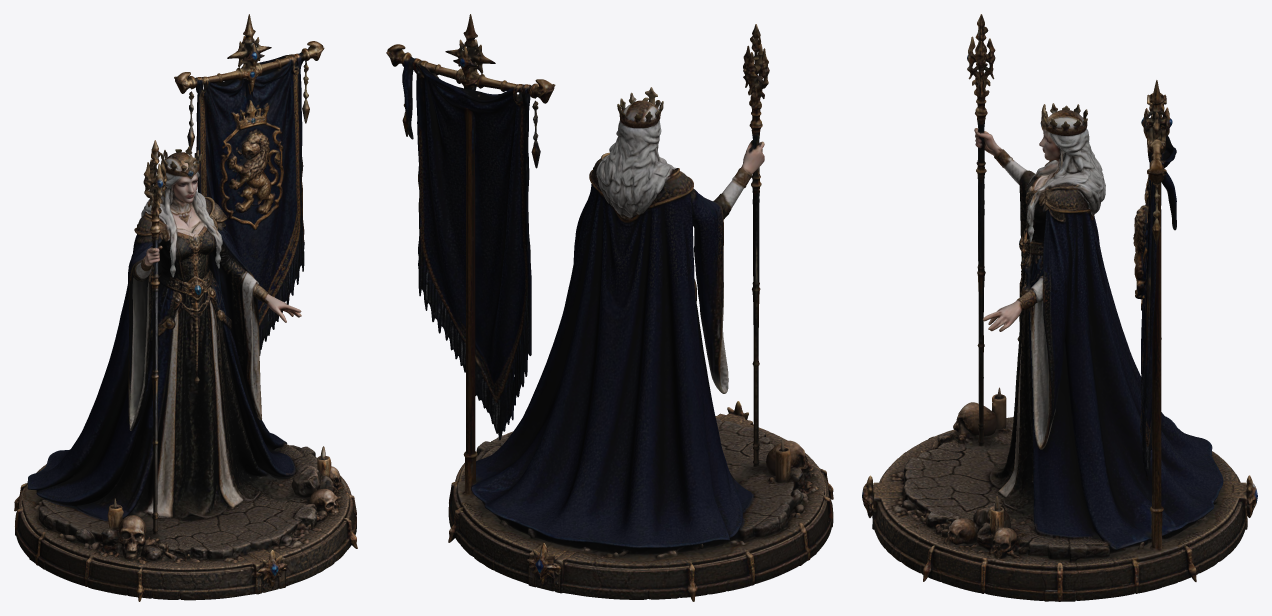
Rendered from Астрид.glb.
3 views of the same model, side by side, from view 1: azimuth 30°, elevation 25°; view 2: azimuth 150°, elevation 25°; view 3: azimuth 270°, elevation 25° (orthographic). The views are drawn at different scales.
Visible parts, largest first — view 1: tripo_node_65e4afdd-ff2a-4add-9e70-b708c463c278; view 2: tripo_node_65e4afdd-ff2a-4add-9e70-b708c463c278; view 3: tripo_node_65e4afdd-ff2a-4add-9e70-b708c463c278.
Part boxes in pixels (x1,y1,x2,y2): tripo_node_65e4afdd-ff2a-4add-9e70-b708c463c278: (14,14,357,601); tripo_node_65e4afdd-ff2a-4add-9e70-b708c463c278: (386,14,833,601); tripo_node_65e4afdd-ff2a-4add-9e70-b708c463c278: (862,14,1257,601).
Bounding box in the file's own units: 0.7567 × 1 × 0.7148.
1 material, 1 textured.
